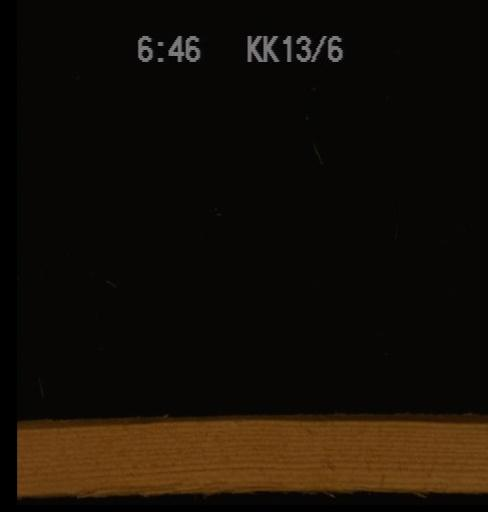wave: (17, 475, 428, 496)
